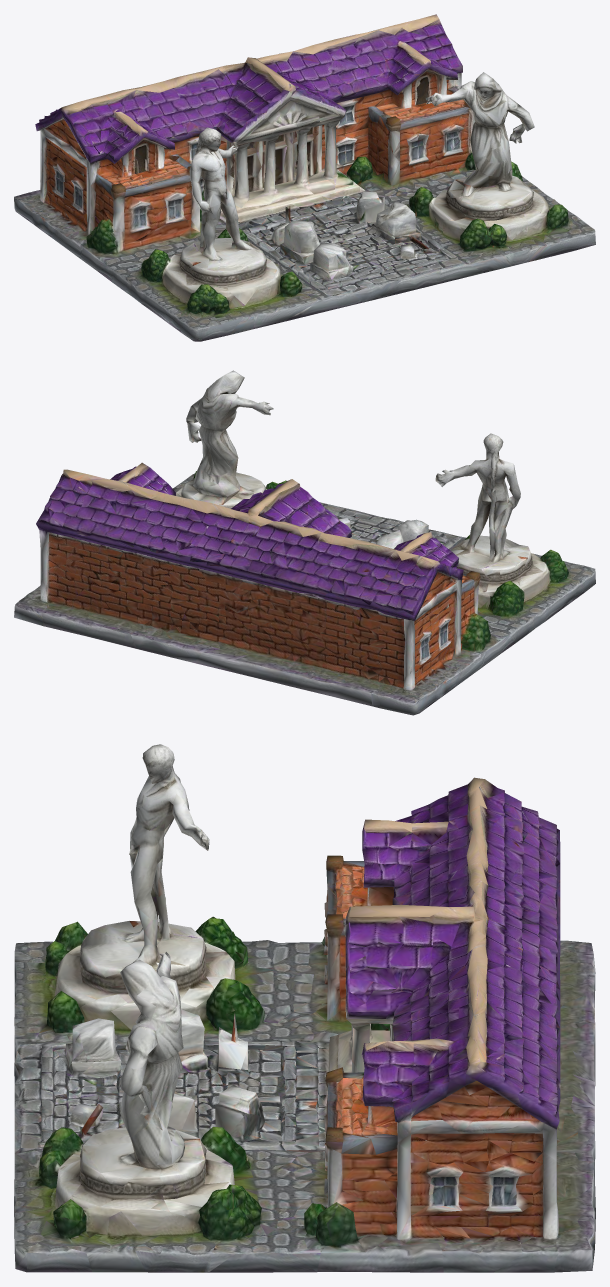
Rendered from studio.glb.
3 views of the same model, one above another, from view 1: azimuth 30°, elevation 25°; view 2: azimuth 150°, elevation 25°; view 3: azimuth 270°, elevation 25° (orthographic). The views are drawn at different scales.
Bounding box in the file's own units: 1.9 × 0.748 × 1.5.
Materials: 1 (1 with a texture image).
